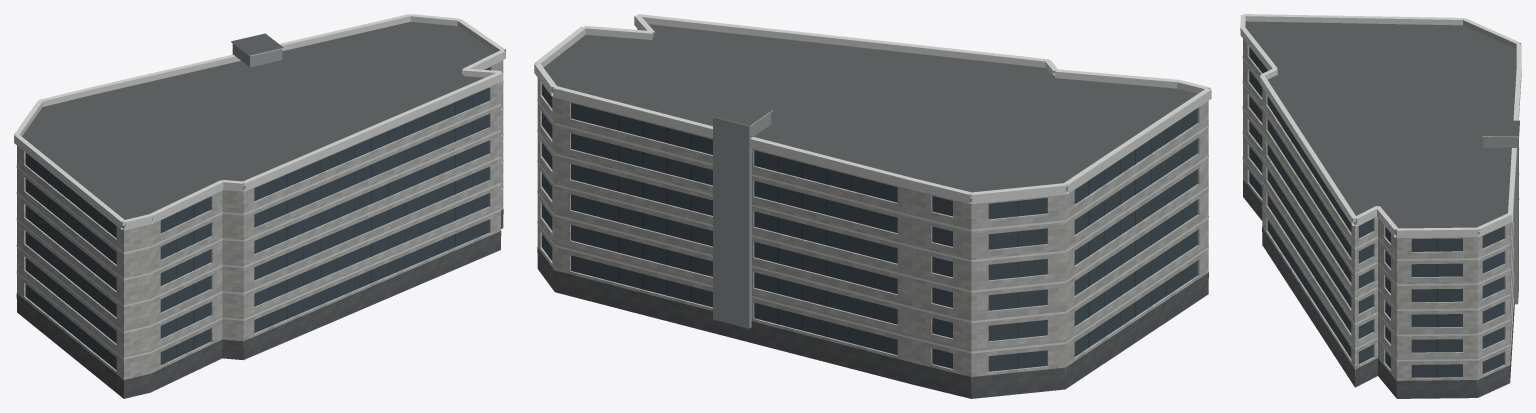
3 views of the same model, side by side, from view 1: azimuth 30°, elevation 25°; view 2: azimuth 150°, elevation 25°; view 3: azimuth 270°, elevation 25° (orthographic). The views are drawn at different scales.
Visible parts, largest first — view 1: basicSci__roof, basicSci__wall, basicSci__glass, basicSci__trim, basicSci__base, basicSci__frame, basicSci__wall2; view 2: basicSci__wall, basicSci__roof, basicSci__glass, basicSci__trim, basicSci__base, basicSci__wall2, basicSci__frame; view 3: basicSci__roof, basicSci__wall, basicSci__glass, basicSci__trim, basicSci__base, basicSci__wall2, basicSci__frame.
Part boxes in pixels (bbox=[...]): basicSci__roof: bbox=[22, 21, 495, 226]; basicSci__wall: bbox=[17, 60, 503, 384]; basicSci__glass: bbox=[25, 67, 489, 369]; basicSci__trim: bbox=[14, 14, 505, 359]; basicSci__base: bbox=[16, 209, 503, 398]; basicSci__frame: bbox=[36, 95, 472, 361]; basicSci__wall2: bbox=[232, 43, 282, 67]; basicSci__wall: bbox=[537, 29, 1208, 382]; basicSci__roof: bbox=[543, 24, 1197, 199]; basicSci__glass: bbox=[542, 84, 1197, 371]; basicSci__trim: bbox=[534, 14, 1211, 353]; basicSci__base: bbox=[537, 247, 1208, 398]; basicSci__wall2: bbox=[713, 112, 771, 328]; basicSci__frame: bbox=[594, 109, 1182, 368]; basicSci__roof: bbox=[1245, 21, 1519, 234]; basicSci__wall: bbox=[1243, 39, 1513, 385]; basicSci__glass: bbox=[1249, 47, 1503, 377]; basicSci__trim: bbox=[1240, 14, 1521, 361]; basicSci__base: bbox=[1243, 179, 1514, 398]; basicSci__wall2: bbox=[1483, 137, 1518, 304]; basicSci__frame: bbox=[1256, 56, 1437, 377].
Bounding box in the file's own units: 70.11 × 27.4 × 38.48.
7 materials, 2 textured.
